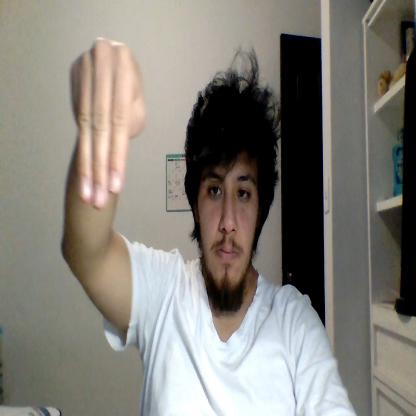M: (70, 37, 146, 209)
